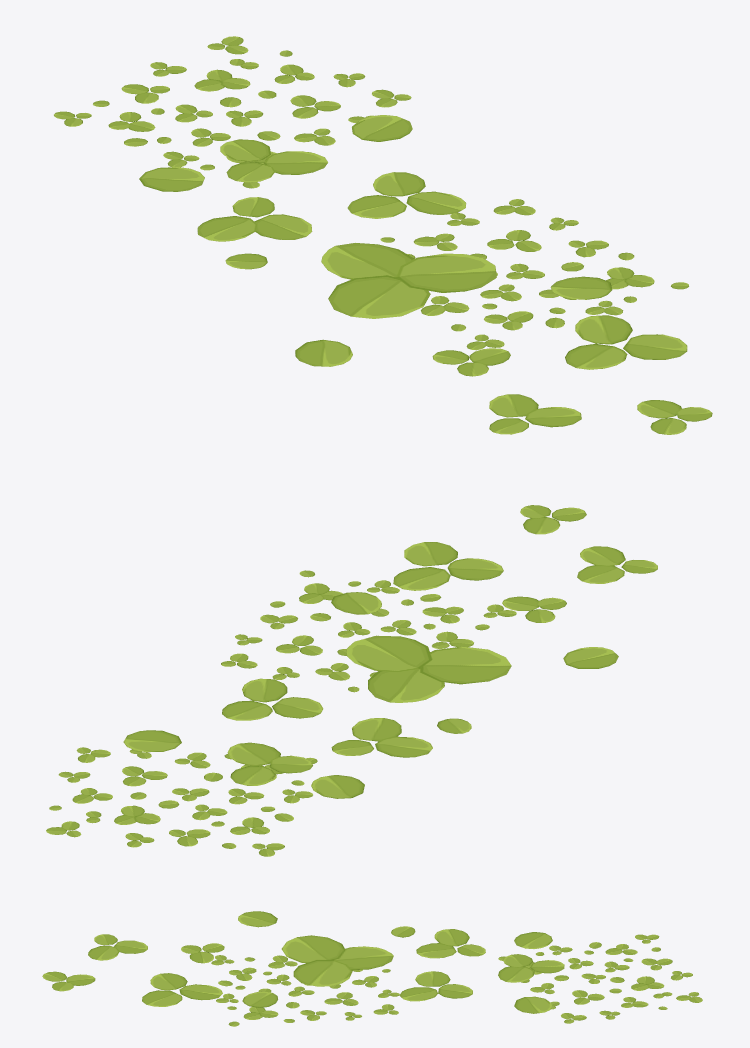
Rendered from SM_Leaves_On_Water_03.fbx.
3 renders of one model, top to bottom at view 1: azimuth 30°, elevation 25°; view 2: azimuth 150°, elevation 25°; view 3: azimuth 270°, elevation 25°, orthographic. The views are drawn at different scales.
Visible parts, largest first — view 1: SM_Leaves_On_Water_03; view 2: SM_Leaves_On_Water_03; view 3: SM_Leaves_On_Water_03.
Boxes of the visible parts, x1=… form: SM_Leaves_On_Water_03: x1=54, y1=36, x2=712, y2=434; SM_Leaves_On_Water_03: x1=46, y1=505, x2=657, y2=856; SM_Leaves_On_Water_03: x1=42, y1=911, x2=702, y2=1026.
Bounding box in the file's own units: 94.27 × 0.638 × 213.
